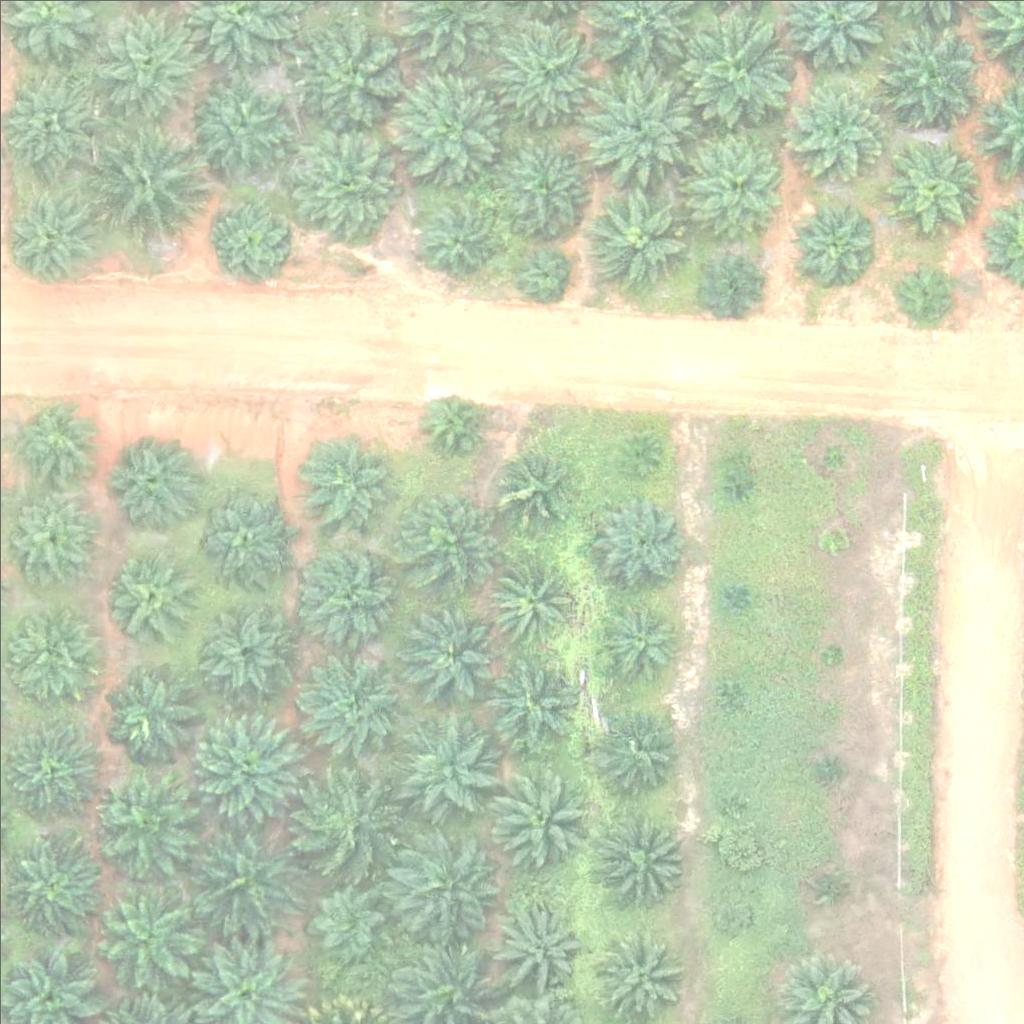Kelapa_Sawit: (668, 5, 793, 131), (280, 121, 405, 247), (292, 10, 417, 136), (81, 120, 206, 246), (484, 3, 609, 128), (190, 701, 303, 815), (872, 17, 985, 131), (88, 874, 201, 987), (193, 822, 306, 935), (583, 69, 696, 182), (386, 831, 498, 945), (584, 484, 696, 597), (395, 66, 507, 179), (90, 776, 190, 877), (399, 715, 499, 816), (490, 766, 590, 867), (482, 654, 582, 755), (395, 487, 495, 588), (301, 542, 401, 643), (296, 432, 396, 533), (789, 76, 889, 177), (685, 135, 785, 236), (585, 187, 685, 288), (496, 133, 596, 234), (101, 665, 201, 765), (294, 772, 394, 872), (301, 651, 401, 751), (190, 484, 290, 584), (98, 433, 198, 533), (191, 75, 291, 175), (1, 183, 101, 283), (590, 597, 678, 686), (205, 604, 293, 692), (593, 706, 681, 794), (484, 554, 572, 642), (886, 144, 974, 232), (787, 195, 875, 283), (6, 603, 93, 691), (405, 602, 492, 690), (493, 901, 580, 989), (593, 934, 680, 1022), (600, 812, 687, 900), (103, 553, 190, 641), (9, 396, 96, 484), (310, 885, 385, 961), (209, 202, 284, 278), (490, 449, 565, 524), (418, 200, 493, 275), (423, 388, 486, 451), (700, 250, 763, 313), (891, 257, 953, 320), (518, 246, 568, 296), (711, 892, 749, 930), (618, 437, 656, 475), (715, 790, 740, 815), (721, 674, 746, 699), (815, 870, 840, 895), (815, 757, 840, 782), (819, 639, 844, 664), (823, 527, 848, 552), (820, 443, 845, 468), (720, 585, 745, 610), (727, 475, 752, 500)
